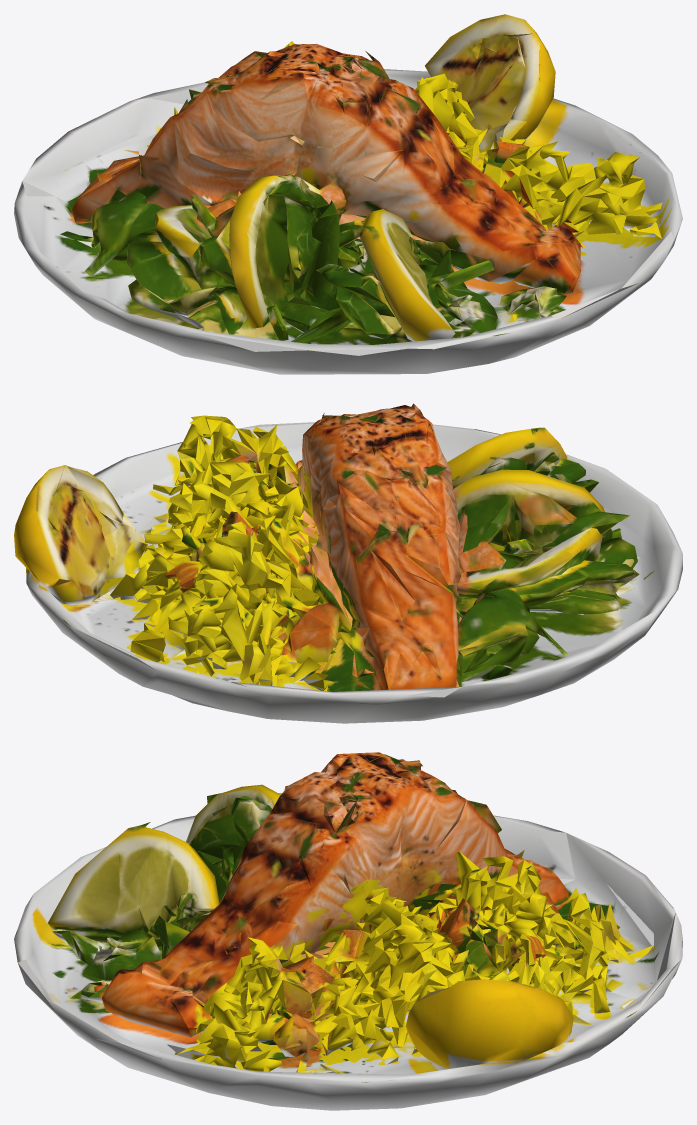
The model's file is losos-grillowany.glb.
3 views of the same model, one above another, from view 1: azimuth 30°, elevation 25°; view 2: azimuth 150°, elevation 25°; view 3: azimuth 270°, elevation 25° (orthographic).
Visible parts, largest first — view 1: output_unwrapped; view 2: output_unwrapped; view 3: output_unwrapped.
Boxes of the visible parts, x1=… form: output_unwrapped: x1=14, y1=14, x2=682, y2=374; output_unwrapped: x1=14, y1=403, x2=682, y2=723; output_unwrapped: x1=14, y1=752, x2=682, y2=1110.
Size of the model in its own units: 0.0756 by 0.025 by 0.0755.
Materials: 1 (1 with a texture image).
